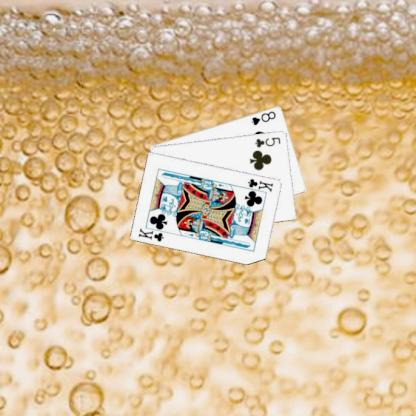5C: (252, 134, 282, 149)
8S: (249, 108, 277, 126)
KC: (136, 223, 169, 243), (241, 176, 275, 195)
